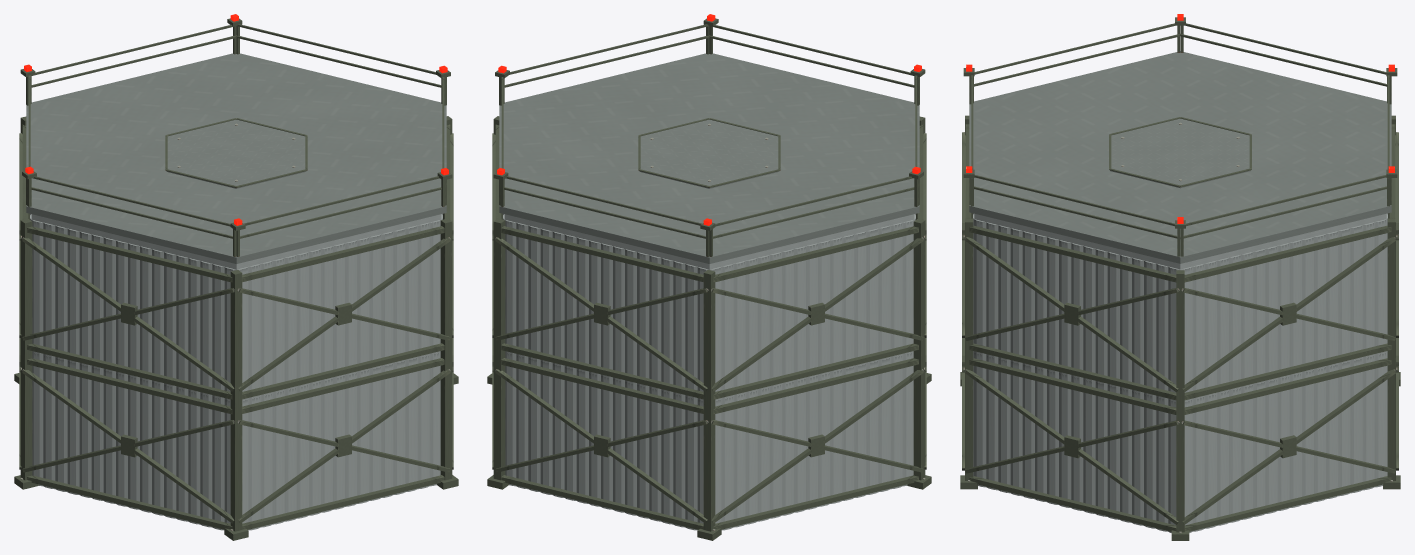
File: terminal.glb
3 views of the same model, side by side, from view 1: azimuth 30°, elevation 25°; view 2: azimuth 150°, elevation 25°; view 3: azimuth 270°, elevation 25° (orthographic).
Parts seen in each view (by area): view 1: terminal-lod0-roof0, terminal-lod0-floor0, terminal-lod0-base0; view 2: terminal-lod0-roof0, terminal-lod0-floor0, terminal-lod0-base0; view 3: terminal-lod0-roof0, terminal-lod0-floor0, terminal-lod0-base0.
Boxes of the visible parts, bbox=[...] form: terminal-lod0-roof0: bbox=[20, 14, 452, 269]; terminal-lod0-floor0: bbox=[19, 116, 453, 406]; terminal-lod0-base0: bbox=[14, 338, 458, 540]; terminal-lod0-roof0: bbox=[493, 14, 925, 269]; terminal-lod0-floor0: bbox=[492, 116, 926, 406]; terminal-lod0-base0: bbox=[487, 338, 931, 540]; terminal-lod0-roof0: bbox=[963, 14, 1397, 269]; terminal-lod0-floor0: bbox=[962, 115, 1398, 406]; terminal-lod0-base0: bbox=[960, 338, 1400, 540].
Size of what is drawn, in the model's own units: 62.24 by 43.07 by 54.2.
Materials: 5 (5 with a texture image).
